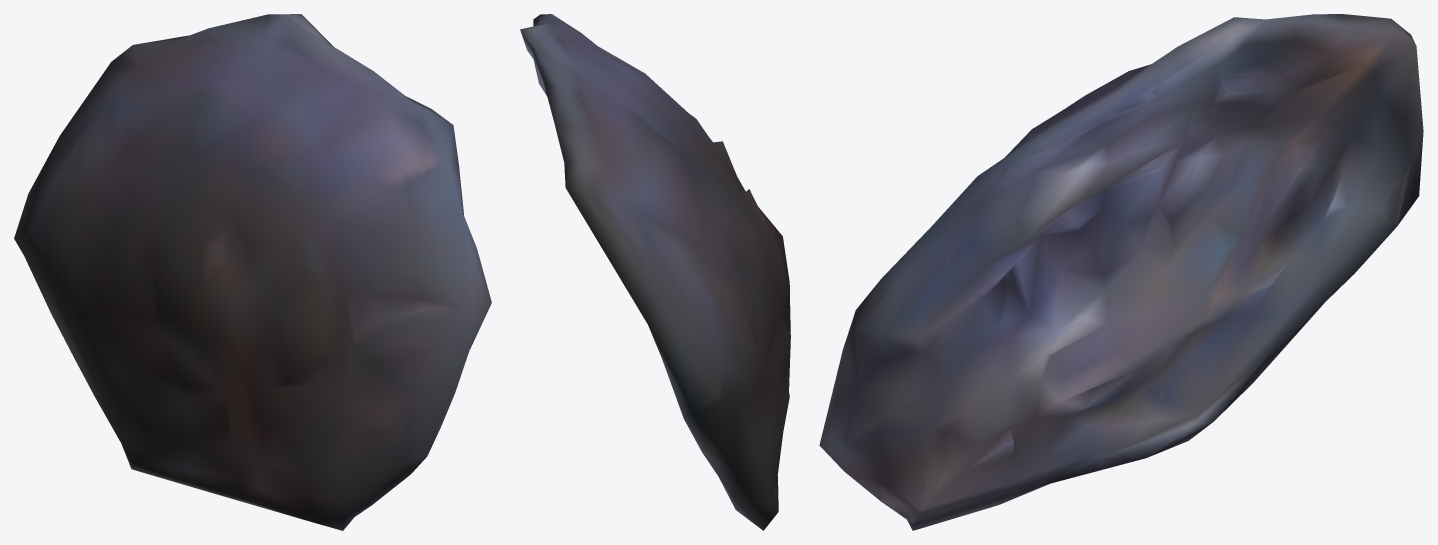
Rendered from gem_keen.glb.
The picture shows the model from 3 angles, left to right: view 1: azimuth 30°, elevation 25°; view 2: azimuth 150°, elevation 25°; view 3: azimuth 270°, elevation 25°; orthographic projection. The views are drawn at different scales.
Parts seen in each view (by area): view 1: model; view 2: model; view 3: model.
Boxes of the visible parts, x1,y1,x2,y2 form: model: (14,14,491,530); model: (520,14,790,530); model: (819,14,1423,530).
Size of the model in its own units: 0.2997 by 0.3986 by 0.393.
Materials: 1 (1 with a texture image).
